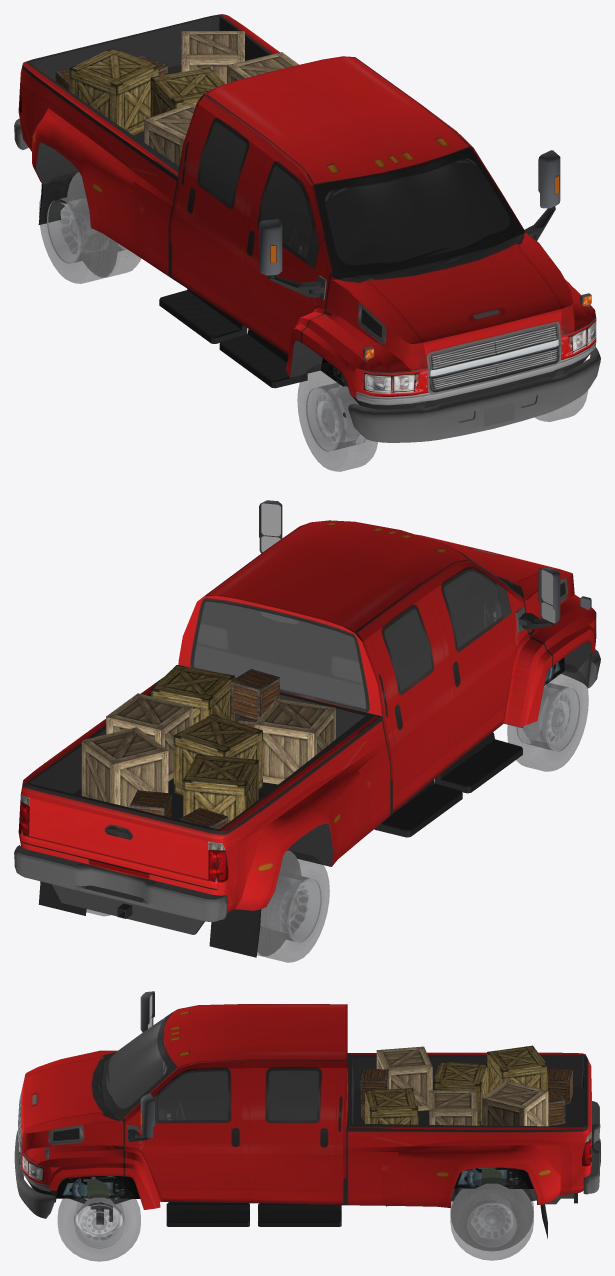
File: fleet-car.glb
3 renders of one model, top to bottom at view 1: azimuth 30°, elevation 25°; view 2: azimuth 150°, elevation 25°; view 3: azimuth 270°, elevation 25°, orthographic. The views are drawn at different scales.
Visible parts, largest first — view 1: Car 10; view 2: Car 10; view 3: Car 10.
Part boxes in pixels (x1,y1,x2,y2): Car 10: [14, 14, 600, 471]; Car 10: [14, 500, 600, 962]; Car 10: [14, 991, 600, 1261].
Bounding box in the file's own units: 65.06 × 52.69 × 146.
2 materials, 2 textured.
